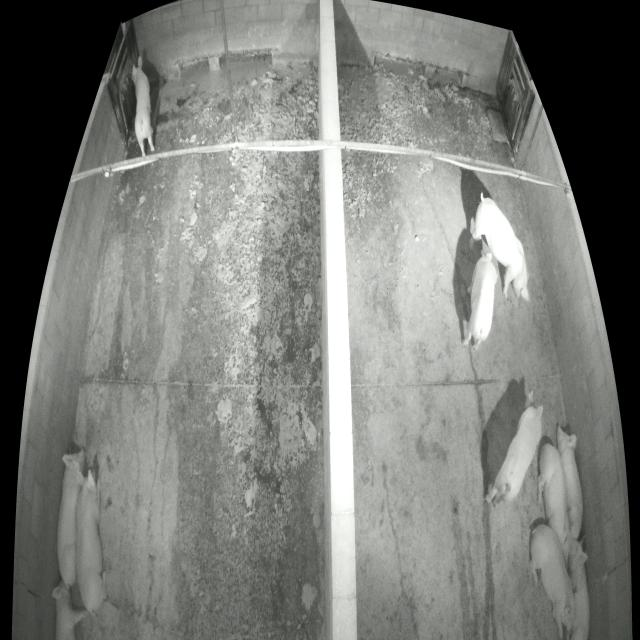pig: (484, 391, 543, 509), (468, 199, 532, 303), (529, 526, 579, 639), (75, 471, 106, 612), (534, 440, 570, 558), (56, 449, 85, 588), (462, 254, 498, 351), (557, 421, 584, 539), (566, 536, 591, 639), (132, 55, 156, 155), (51, 582, 87, 639)
